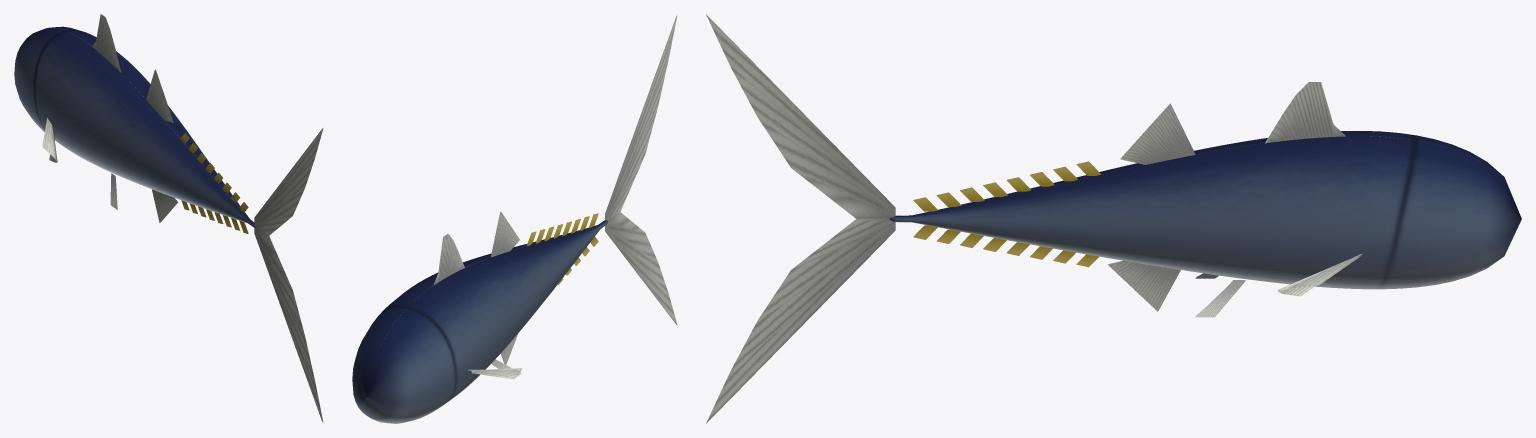
File: HO_Fish_Maguro.fbx
3 renders of one model, left to right at view 1: azimuth 30°, elevation 25°; view 2: azimuth 150°, elevation 25°; view 3: azimuth 270°, elevation 25°, orthographic. The views are drawn at different scales.
Parts seen in each view (by area): view 1: HO_Fish_Maguro__Fish_Maguro, HO_Fish_Maguro__Fish_Fin, HO_Fish_Maguro__Fish_Fin_Yellow; view 2: HO_Fish_Maguro__Fish_Maguro, HO_Fish_Maguro__Fish_Fin, HO_Fish_Maguro__Fish_Fin_Yellow; view 3: HO_Fish_Maguro__Fish_Maguro, HO_Fish_Maguro__Fish_Fin, HO_Fish_Maguro__Fish_Fin_Yellow.
Part boxes in pixels (x1,y1,x2,y2): HO_Fish_Maguro__Fish_Maguro: (14, 26, 256, 227); HO_Fish_Maguro__Fish_Fin: (42, 14, 323, 421); HO_Fish_Maguro__Fish_Fin_Yellow: (180, 133, 248, 233); HO_Fish_Maguro__Fish_Maguro: (352, 220, 607, 423); HO_Fish_Maguro__Fish_Fin: (433, 15, 677, 379); HO_Fish_Maguro__Fish_Fin_Yellow: (526, 213, 598, 292); HO_Fish_Maguro__Fish_Maguro: (889, 131, 1521, 289); HO_Fish_Maguro__Fish_Fin: (706, 14, 1362, 423); HO_Fish_Maguro__Fish_Fin_Yellow: (913, 161, 1101, 267).
Size of the model in its own units: 1.5 by 3.6 by 6.5.
